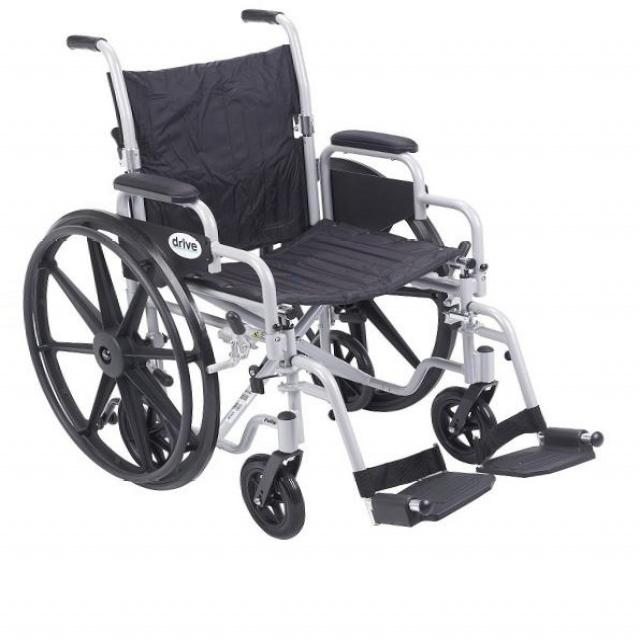wheelchair: (0, 0, 616, 556)
